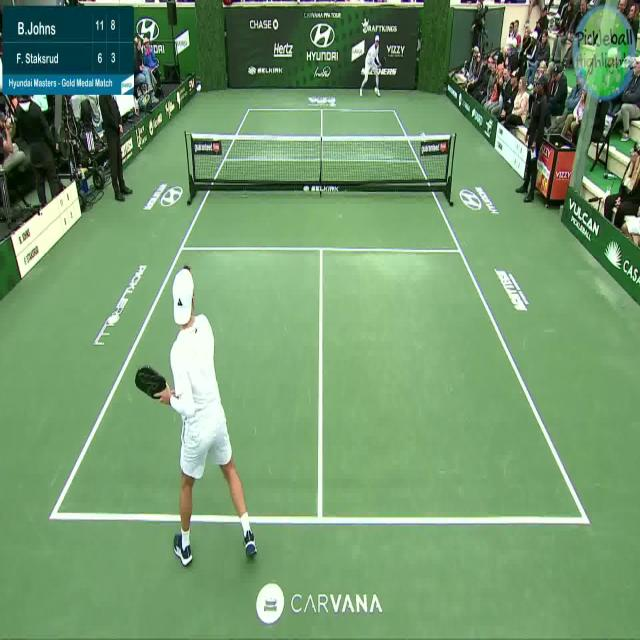Court: (50, 108, 588, 523)
